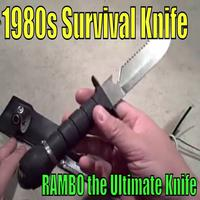knife: (17, 38, 171, 190)
